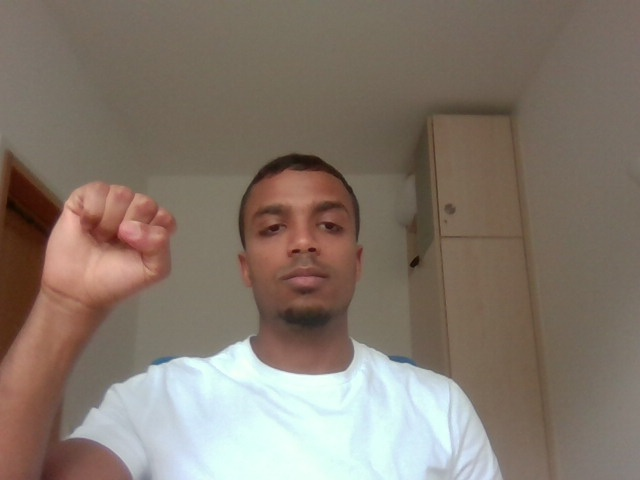neutral: (33, 159, 198, 318)
